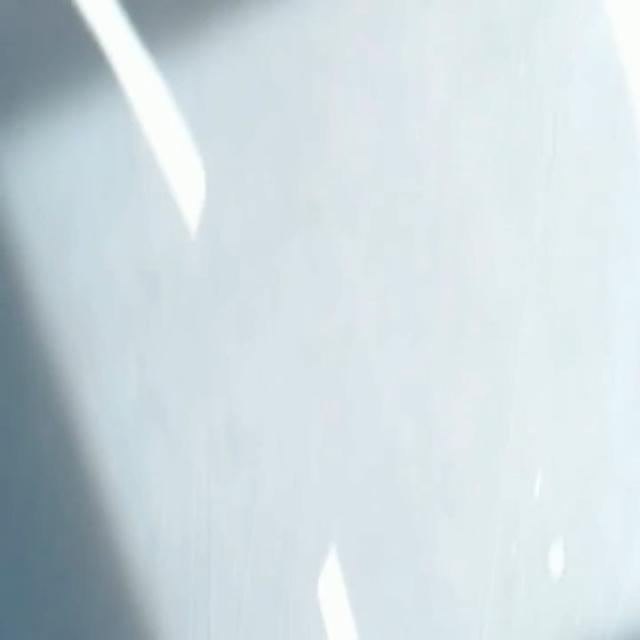center: (72, 0, 205, 237), (317, 546, 357, 639)
